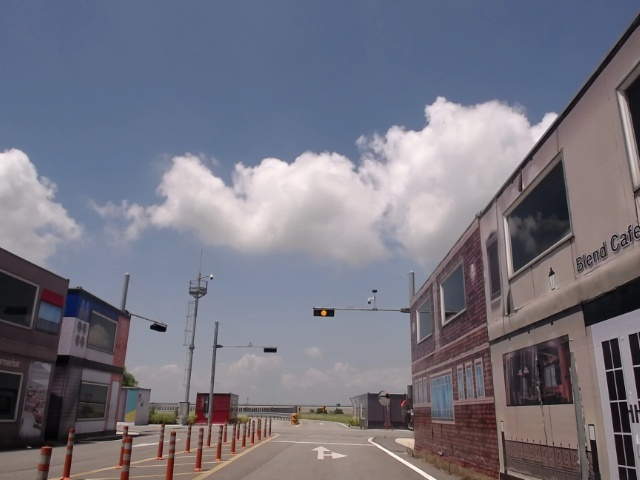orange_3: (313, 308, 335, 317)
